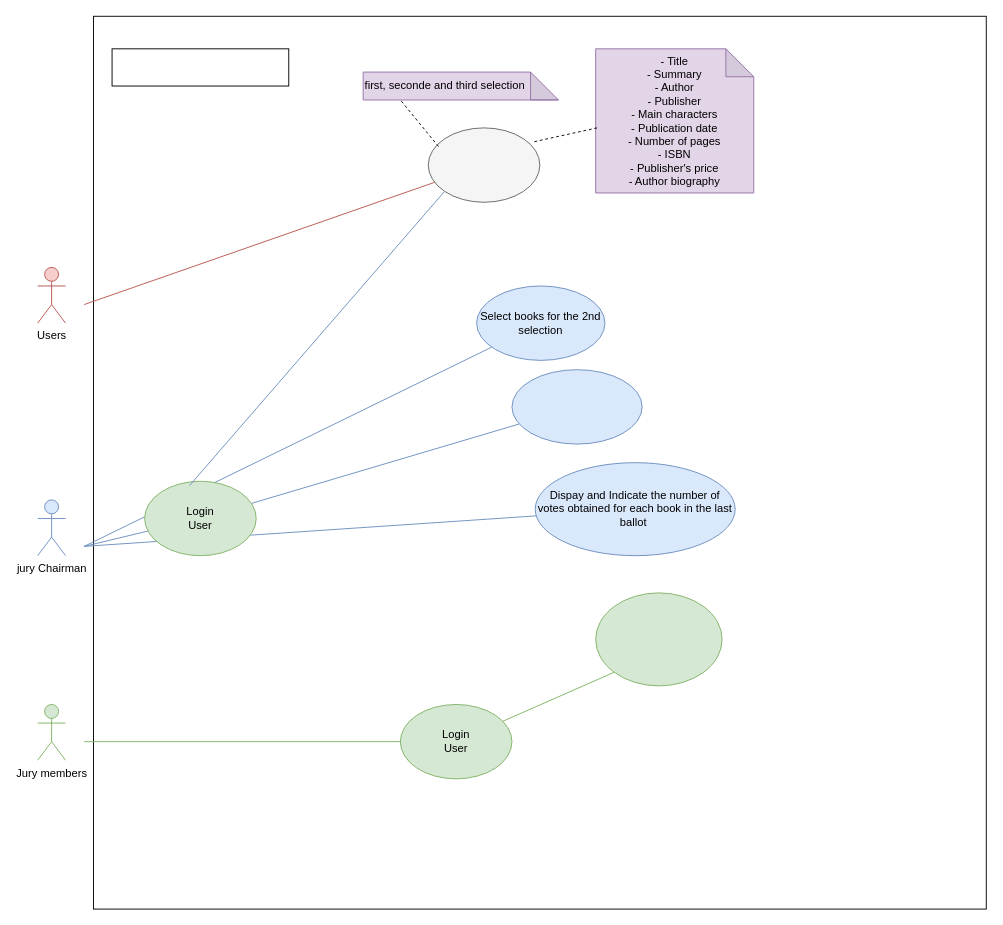
The diagram is 1003 pixels wide and 925 high, and some of its shapes have lost their labels. Here are the shapes that lost their labels. From the top down, the centre of each, then its label:
[200,67]: Prix Goncourt 2024
[483,164]: Display books
[576,406]: Select books for the 3rd selection
[658,639]: Vote for the books of the 2nd and 3rd selections and the laureat
